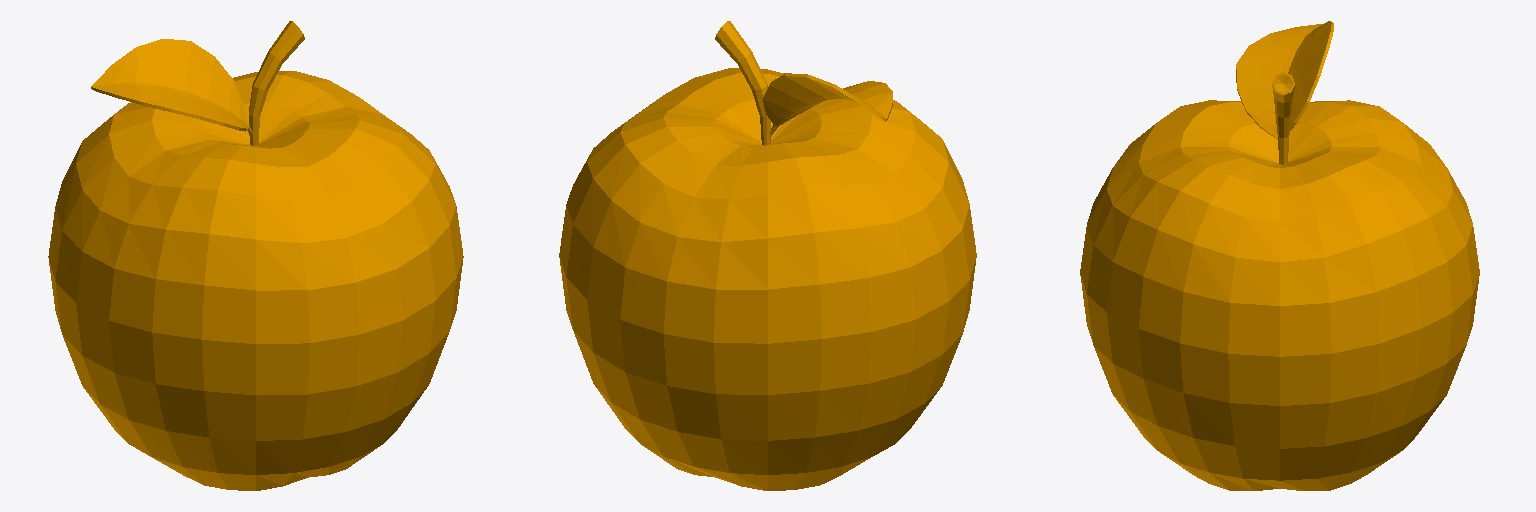
robot.urdf — apple:
<?xml version="0.0" ?>
<robot name="apple">
  <link name="baseLink">
    <contact>
      <lateral_friction value="1.0"/>
      <rolling_friction value="0.0"/>
      <contact_cfm value="0.0"/>
      <contact_erp value="1.0"/>
    </contact>
    <inertial>
      <origin rpy="1.57 0 0" xyz="0.0 0.0 0.04"/>
       <mass value=".1"/>
       <inertia ixx="1" ixy="0" ixz="0" iyy="1" iyz="0" izz="1"/>
    </inertial>
    <visual>
      <origin rpy="1.57 0 0" xyz="0 0 0.04"/>
      <geometry>
        <mesh filename="meshes/apple/apple.obj" scale="0.01 0.01 0.01"/>
      </geometry>

    </visual>
    <collision>
      <origin rpy="1.57 0 0" xyz="0 0 0.04"/>
      <geometry>
	 	<mesh filename="meshes/apple/apple.obj" scale="0.01 0.01 0.01"/>
      </geometry>
    </collision>
  </link>
</robot>

--- What the picture shows (computed from the rendered views, not written in the file) ---
3 views of the same robot in one strip: view 1: azimuth 30°, elevation 25°; view 2: azimuth 150°, elevation 25°; view 3: azimuth 270°, elevation 25° (orthographic).
Robot: apple — 1 links, 0 joints (none); root link baseLink; default pose: every joint at zero.
Links seen in each view (by area): view 1: baseLink; view 2: baseLink; view 3: baseLink.
Boxes of the visible links, <box> form: baseLink: <box>48,21,463,490</box>; baseLink: <box>559,21,976,490</box>; baseLink: <box>1080,21,1479,490</box>.
Bounding box of the posed robot: 0.0799 × 0.0799 × 0.0911 m (x, y, z).
Meshes: 1 distinct files referenced, 1 mesh visuals loaded (1 OBJ).